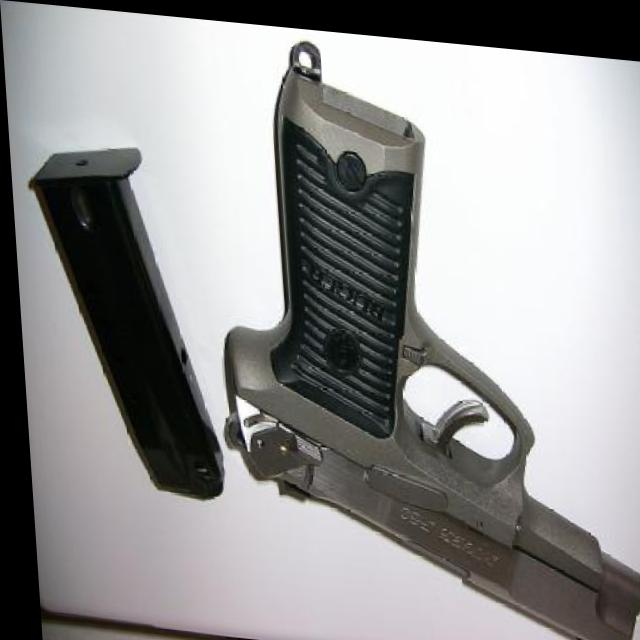handgun: (191, 28, 640, 640)
